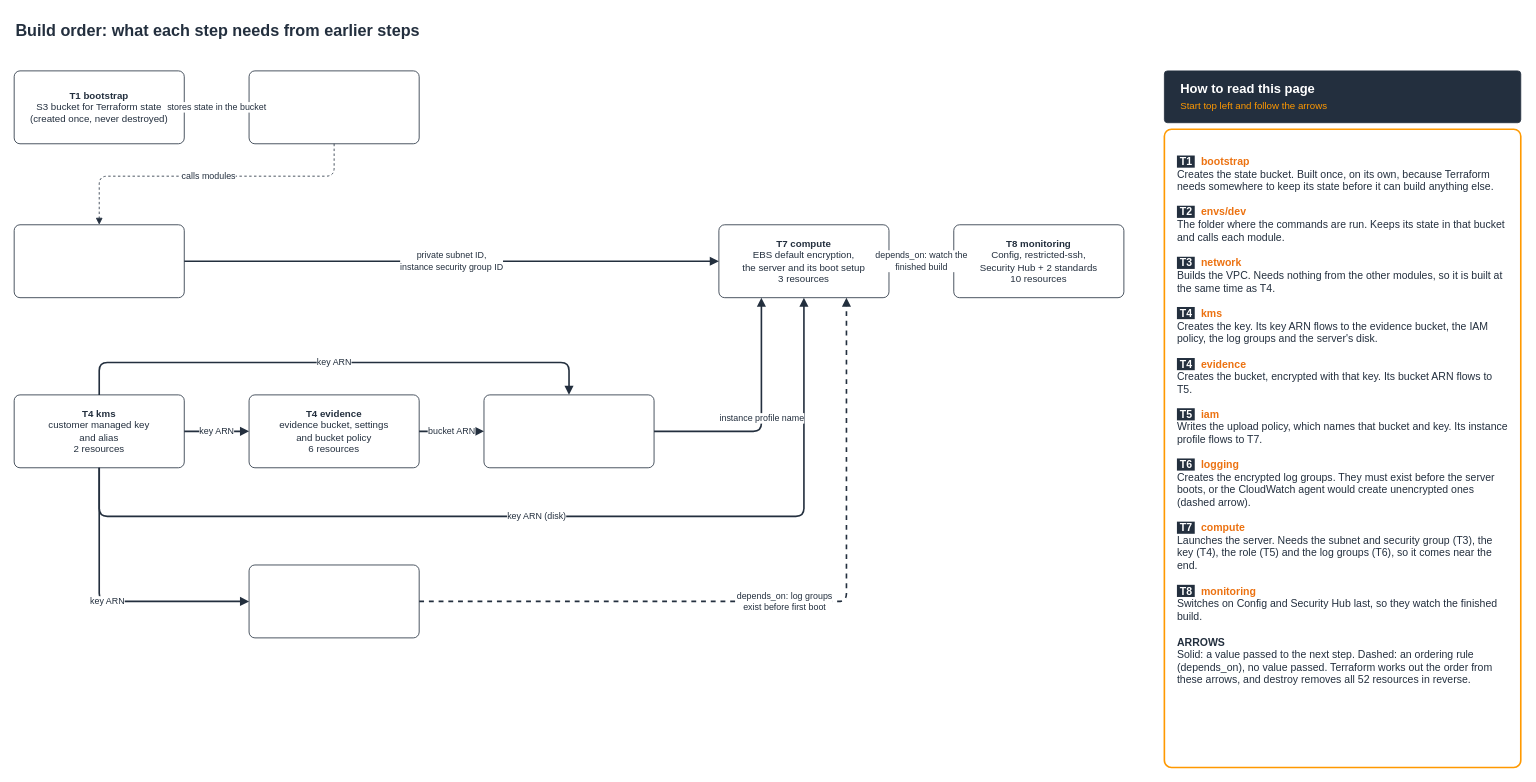
Image size: 1536x782. Some labels were removed from this diagram. Each missing label, with the centre of its shape:
"T2 envs/dev backend, provider, variables calls every module below" belongs at [333,107].
"T3 network VPC, subnets, NAT, routes, security groups, endpoints 21 resources" belongs at [98,261].
"T5 iam role, upload policy, 3 attachments, instance profile 6 resources" belongs at [568,431].
"T6 logging 3 log groups, Session Manager preferences 4 resources" belongs at [333,601].
